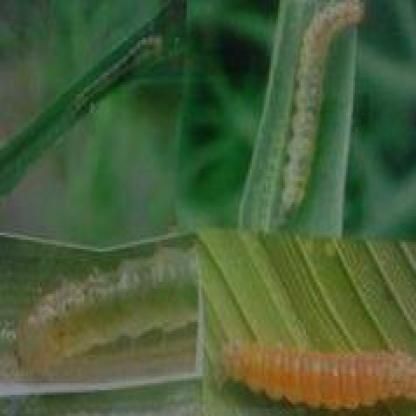leaf-folder: (10, 236, 198, 380), (262, 0, 374, 226), (226, 322, 416, 416), (60, 23, 157, 129)
